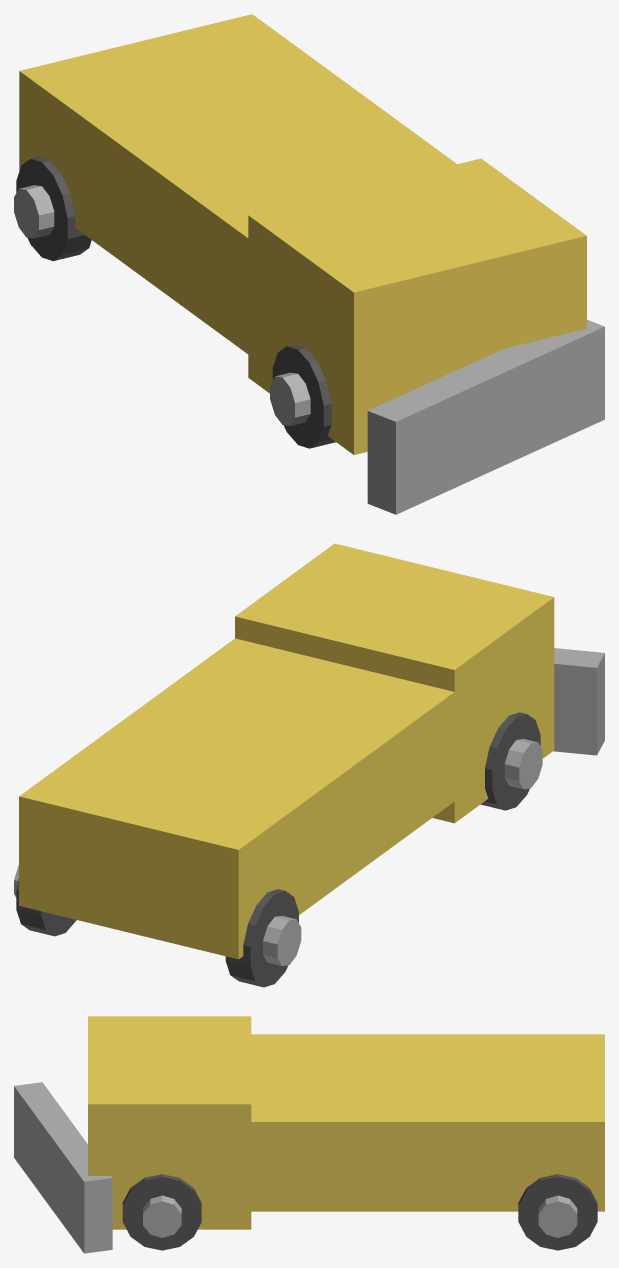
The model's file is snow_plow_truck.glb.
3 renders of one model, top to bottom at view 1: azimuth 30°, elevation 25°; view 2: azimuth 150°, elevation 25°; view 3: azimuth 270°, elevation 25°, orthographic. The views are drawn at different scales.
Visible parts, largest first — view 1: cargo, cab, plow, wheel_rr, wheel_fr, hub_-1_1, hub_-1_-1; view 2: cargo, cab, plow, wheel_rr, wheel_fr, hub_-1_-1, hub_-1_1, wheel_rl; view 3: cargo, cab, plow, wheel_rl, wheel_fl, hub_1_-1, hub_1_1.
Boxes of the visible parts, x1,y1,x2,y2 form: cargo: [19, 14, 456, 353]; cab: [248, 158, 586, 454]; plow: [367, 319, 604, 514]; wheel_rr: [16, 157, 91, 260]; wheel_fr: [272, 344, 335, 448]; hub_-1_1: [270, 372, 310, 425]; hub_-1_-1: [14, 185, 54, 238]; cargo: [19, 638, 471, 959]; cab: [235, 543, 554, 823]; plow: [553, 648, 604, 755]; wheel_rr: [225, 889, 298, 987]; wheel_fr: [480, 712, 540, 810]; hub_-1_-1: [263, 915, 301, 966]; hub_-1_1: [504, 739, 542, 789]; wheel_rl: [16, 878, 76, 936]; cargo: [224, 1034, 604, 1211]; cab: [88, 1016, 251, 1229]; plow: [14, 1082, 112, 1253]; wheel_rl: [518, 1174, 597, 1250]; wheel_fl: [122, 1174, 201, 1250]; hub_1_-1: [538, 1195, 577, 1237]; hub_1_1: [143, 1195, 181, 1237].
Bounding box in the file's own units: 2.52 × 1.6 × 5.97.
